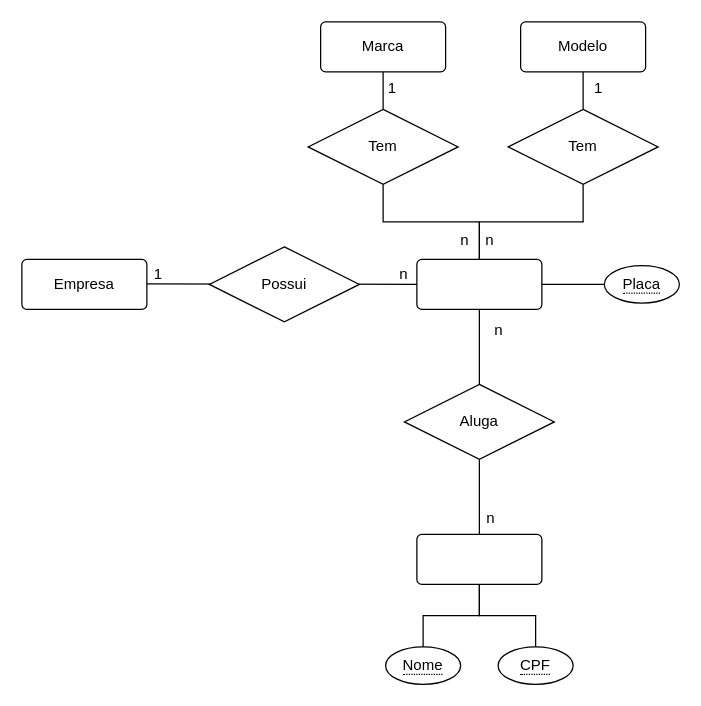
Some shapes in this 701 by 706 pixel diagram are drawn without their labels. Here are the shapes that lost their labels. From the top down, the centre of each, then its label:
the point at 479,283: Veículos
the point at 479,558: Cliente
